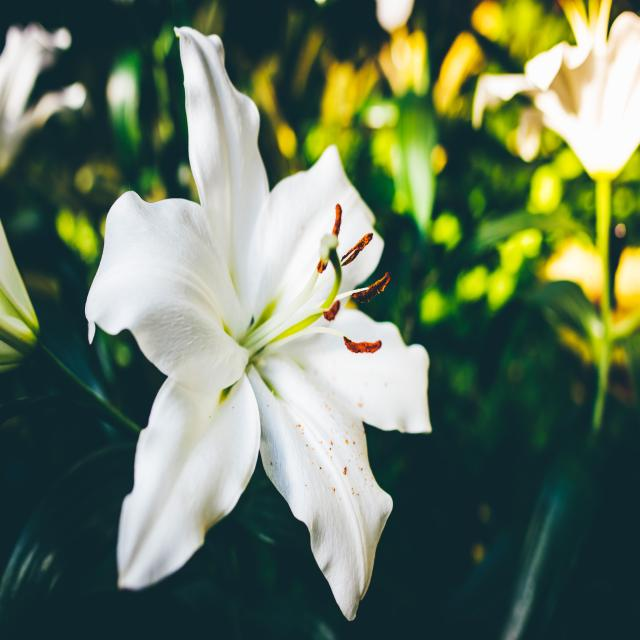lily: (66, 16, 436, 618)
